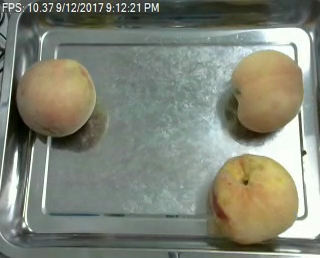Peach: (209, 153, 298, 244), (16, 57, 97, 137), (230, 49, 302, 133)
